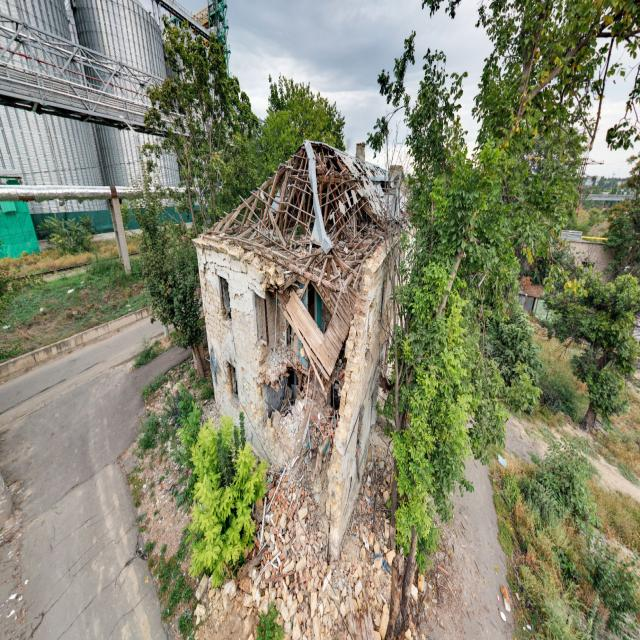building: (196, 242, 370, 571), (338, 257, 394, 572)
damage: (250, 255, 365, 562), (196, 240, 256, 310), (370, 345, 382, 418), (218, 275, 232, 324), (225, 361, 240, 405), (365, 294, 376, 352), (355, 399, 364, 468), (210, 345, 219, 394), (379, 273, 387, 325)
damaged_roof: (194, 140, 389, 277)
other: (323, 169, 640, 640), (164, 0, 465, 242), (364, 141, 640, 324), (306, 0, 640, 140), (354, 16, 640, 178), (383, 220, 401, 368)
roof: (196, 140, 388, 277)
